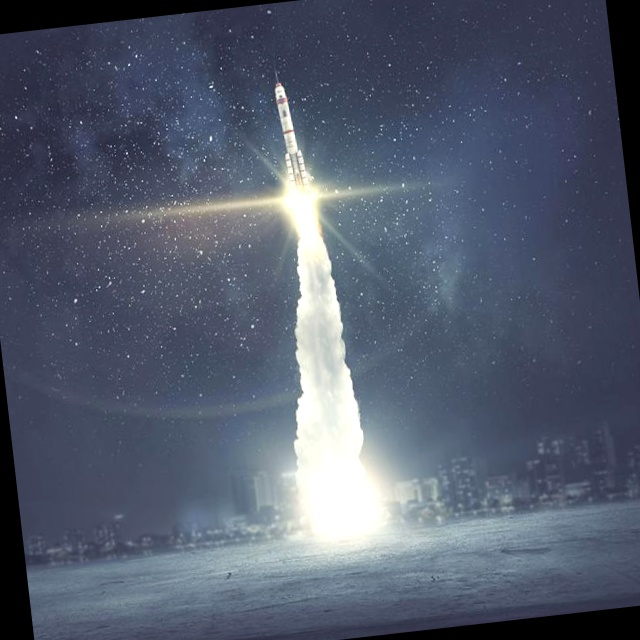medium_debris: (286, 182, 323, 253)
rocket: (267, 62, 317, 202)
